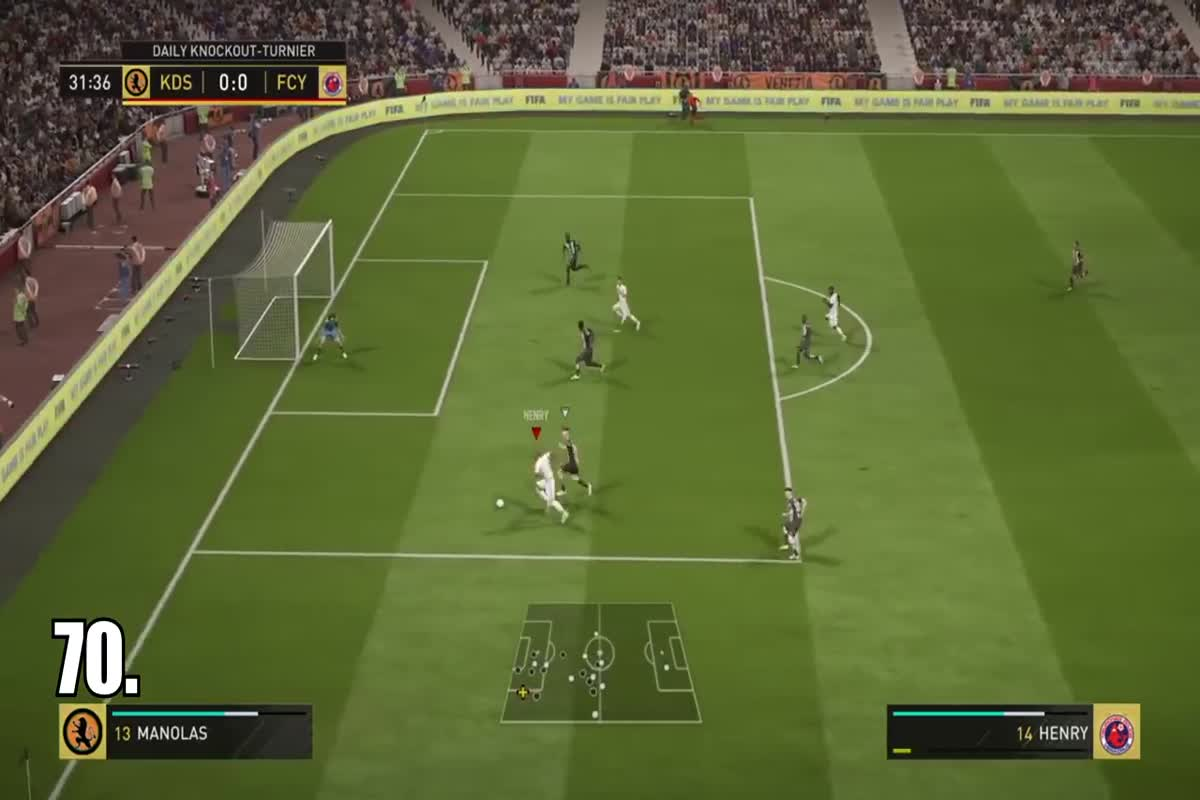ball: (483, 489, 519, 515)
